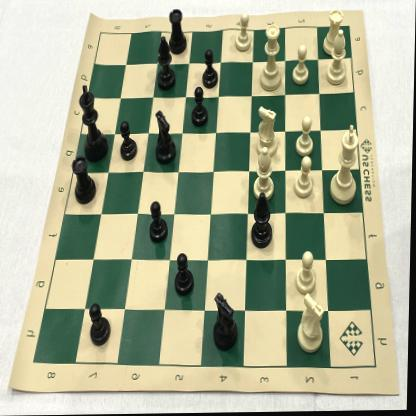black-bishop: (251, 192, 275, 251), (155, 34, 177, 96)
black-king: (76, 79, 111, 162)
black-knight: (212, 289, 241, 353), (154, 108, 179, 167)
black-pawn: (89, 301, 115, 349), (148, 198, 171, 246), (174, 252, 196, 299), (118, 118, 139, 163), (202, 48, 221, 90), (191, 86, 209, 130)
black-rook: (69, 153, 100, 208), (167, 6, 189, 57)
white-bishop: (323, 30, 351, 88), (253, 146, 276, 201)
white-king: (329, 125, 363, 207)
white-knight: (297, 291, 328, 356), (254, 104, 280, 161)
white-pawn: (291, 156, 317, 201), (295, 250, 319, 297), (289, 41, 311, 89), (294, 115, 316, 160), (233, 10, 254, 55)
white-queen: (257, 21, 285, 94)
white-rook: (320, 7, 346, 61)
